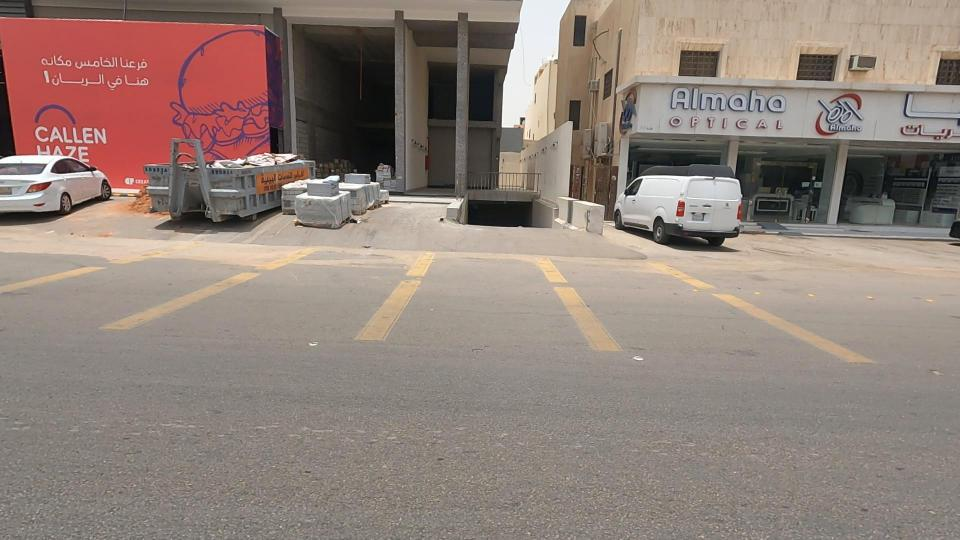GARBAGE: (166, 124, 335, 205)
